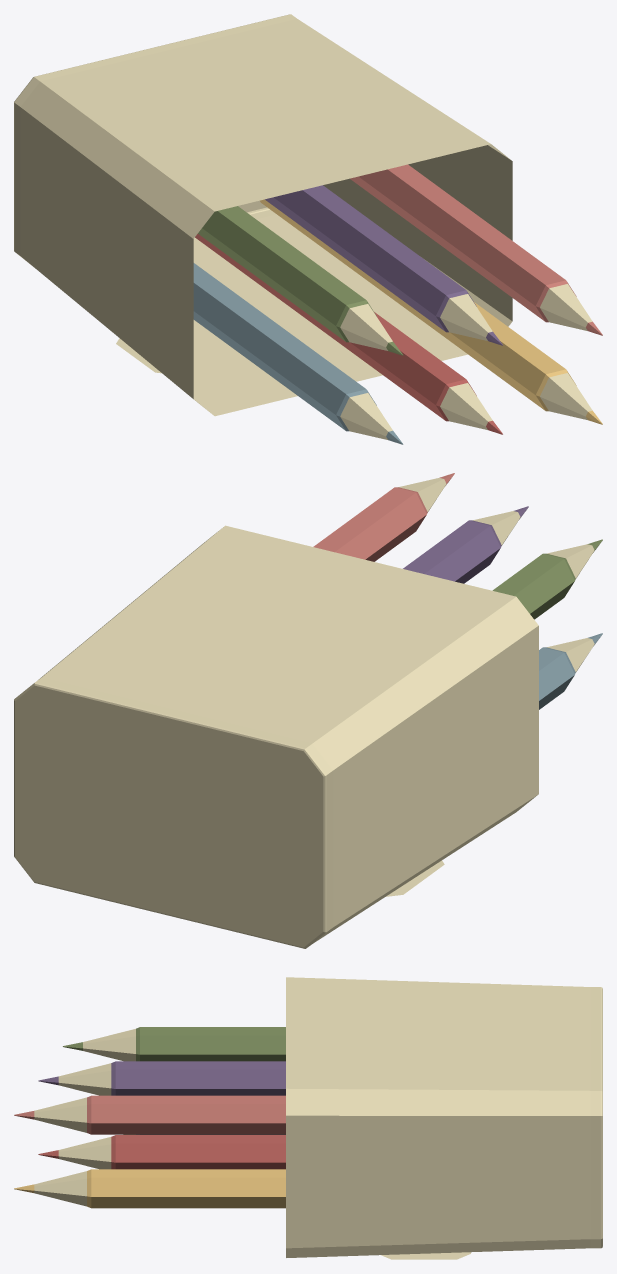
File: pencils.glb
The picture shows the model from 3 angles, top to bottom: view 1: azimuth 30°, elevation 25°; view 2: azimuth 150°, elevation 25°; view 3: azimuth 270°, elevation 25°; orthographic projection. The views are drawn at different scales.
Parts seen in each view (by area): view 1: pencils; view 2: pencils; view 3: pencils.
Part boxes in pixels (x1,y1,x2,y2): pencils: (14,14,602,444); pencils: (14,473,602,948); pencils: (14,977,602,1259).
Bounding box in the file's own units: 0.075 × 0.0472 × 0.145.
